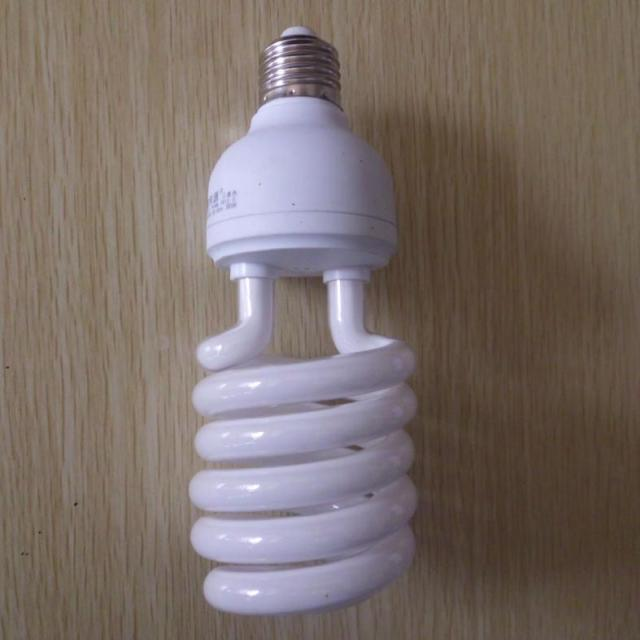non-organik: (150, 15, 448, 633)
